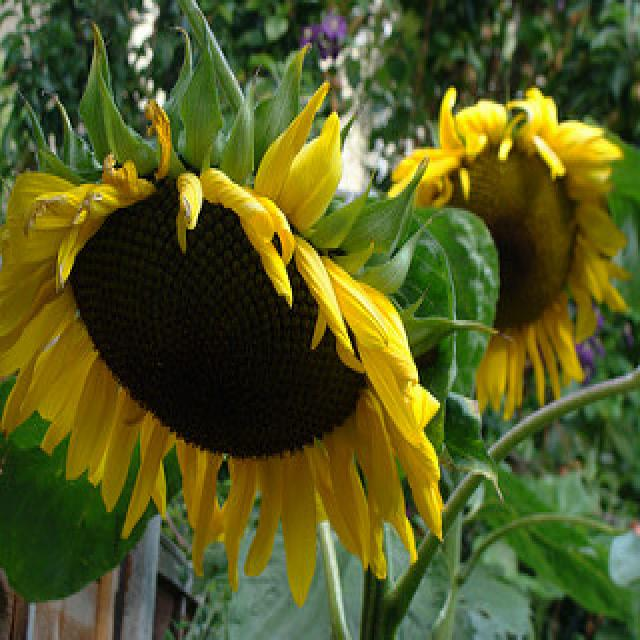sunflower: (0, 140, 454, 615), (382, 75, 640, 424)
